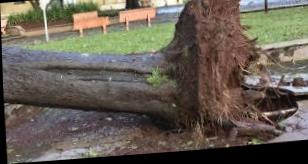Downstairs: (0, 0, 300, 162)
